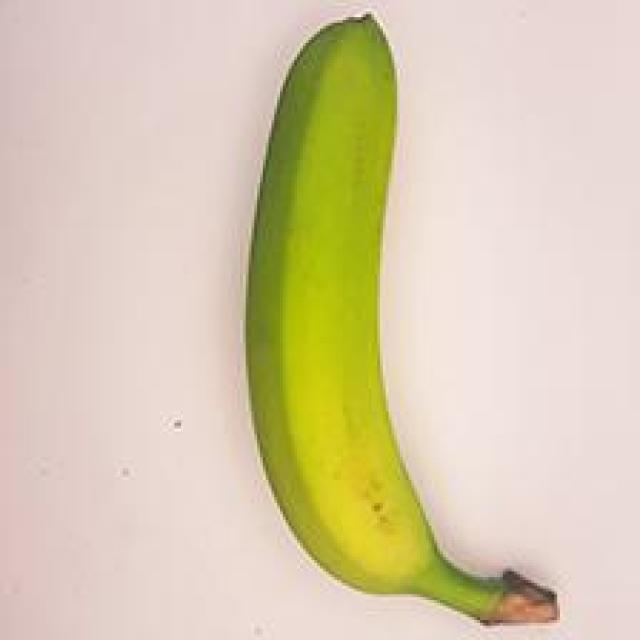Unripe: (212, 0, 598, 640)
